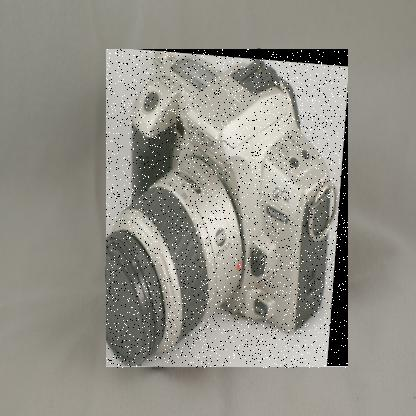Camera: (107, 51, 350, 371)
